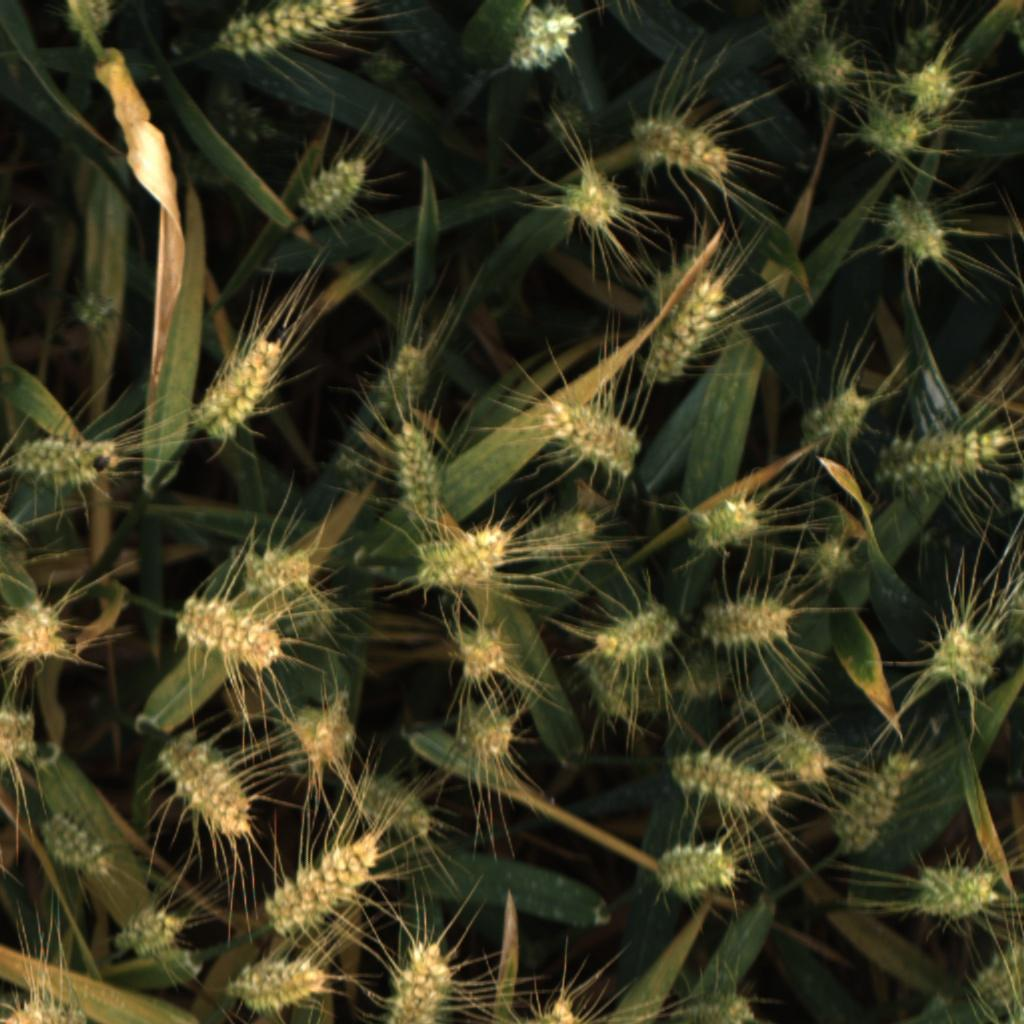0-0: (267, 831, 379, 935), (158, 732, 261, 841), (188, 335, 288, 441), (873, 421, 1007, 500), (164, 592, 282, 681), (644, 275, 735, 390), (534, 396, 640, 482), (216, 0, 364, 58), (839, 750, 918, 854), (665, 746, 779, 815), (11, 431, 120, 497), (228, 945, 329, 1016), (390, 420, 460, 521), (379, 939, 461, 1024), (702, 588, 804, 656), (414, 523, 508, 593), (631, 121, 743, 179), (656, 839, 741, 912), (588, 596, 683, 661), (39, 808, 119, 883), (919, 624, 1000, 698), (798, 378, 879, 452), (882, 200, 965, 271), (352, 769, 436, 838), (507, 2, 583, 78), (681, 492, 767, 559), (555, 167, 632, 241), (291, 693, 361, 769), (297, 154, 370, 226), (237, 541, 323, 602), (0, 595, 72, 667), (923, 856, 1003, 920), (525, 503, 601, 564), (901, 60, 971, 126), (968, 925, 1024, 1007), (448, 698, 518, 763), (579, 655, 640, 729), (763, 1, 831, 66), (277, 585, 346, 649), (778, 717, 836, 793), (113, 905, 192, 960), (796, 528, 858, 598), (207, 91, 284, 147), (377, 338, 433, 414), (450, 625, 513, 692), (852, 110, 927, 166), (796, 40, 864, 99), (892, 15, 950, 84), (672, 653, 736, 706), (684, 985, 767, 1024), (328, 446, 376, 505), (64, 286, 119, 337), (0, 701, 40, 769), (516, 987, 589, 1024), (59, 0, 118, 45), (357, 44, 408, 91), (991, 585, 1024, 656), (3, 999, 95, 1024), (1009, 477, 1024, 514)
